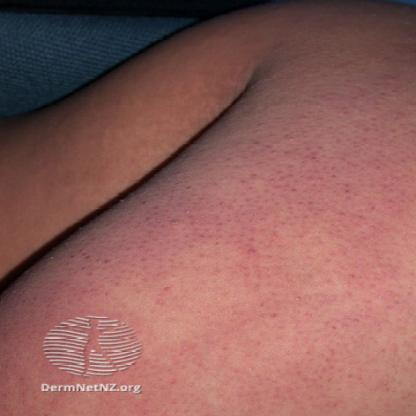Chicken Skin: (53, 77, 415, 408)
Healthy skin: (13, 30, 227, 247)
